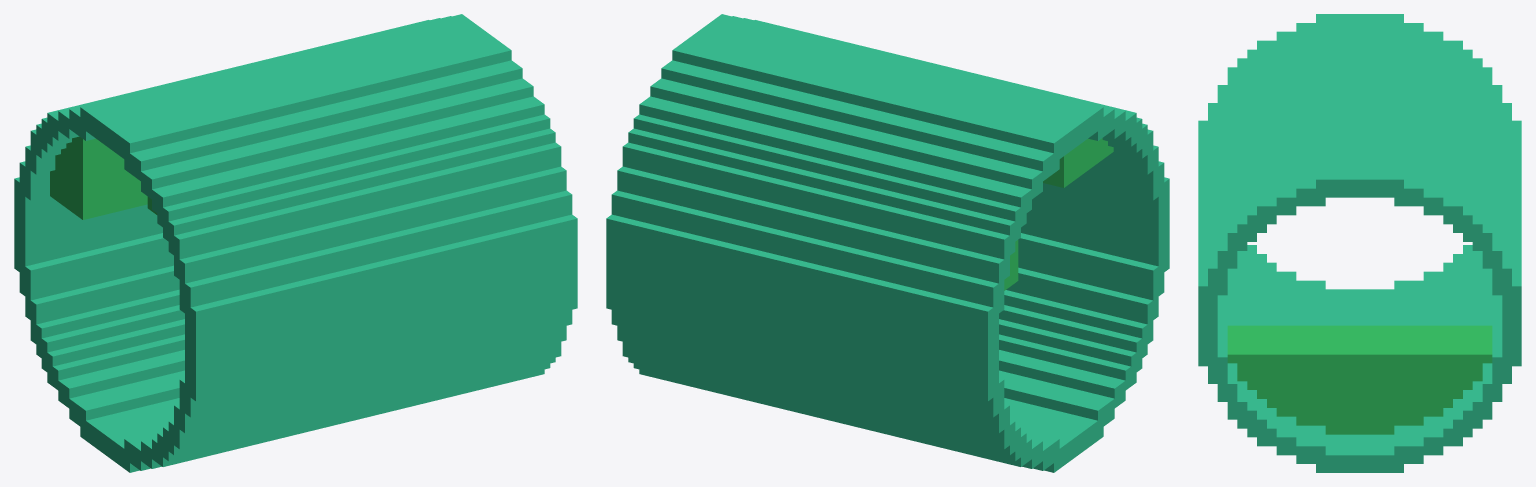
File: GreenTunnel2.dae
3 renders of one model, left to right at view 1: azimuth 30°, elevation 25°; view 2: azimuth 150°, elevation 25°; view 3: azimuth 270°, elevation 25°, orthographic. The views are drawn at different scales.
Visible parts, largest first — view 1: GreenTunnel2; view 2: GreenTunnel2; view 3: GreenTunnel2.
Part boxes in pixels (bbox=[...]): GreenTunnel2: bbox=[14, 14, 577, 472]; GreenTunnel2: bbox=[606, 14, 1169, 472]; GreenTunnel2: bbox=[1198, 14, 1521, 472].
Bounding box in the file's own units: 4 × 3.3 × 3.3.
1 material, 1 textured.
